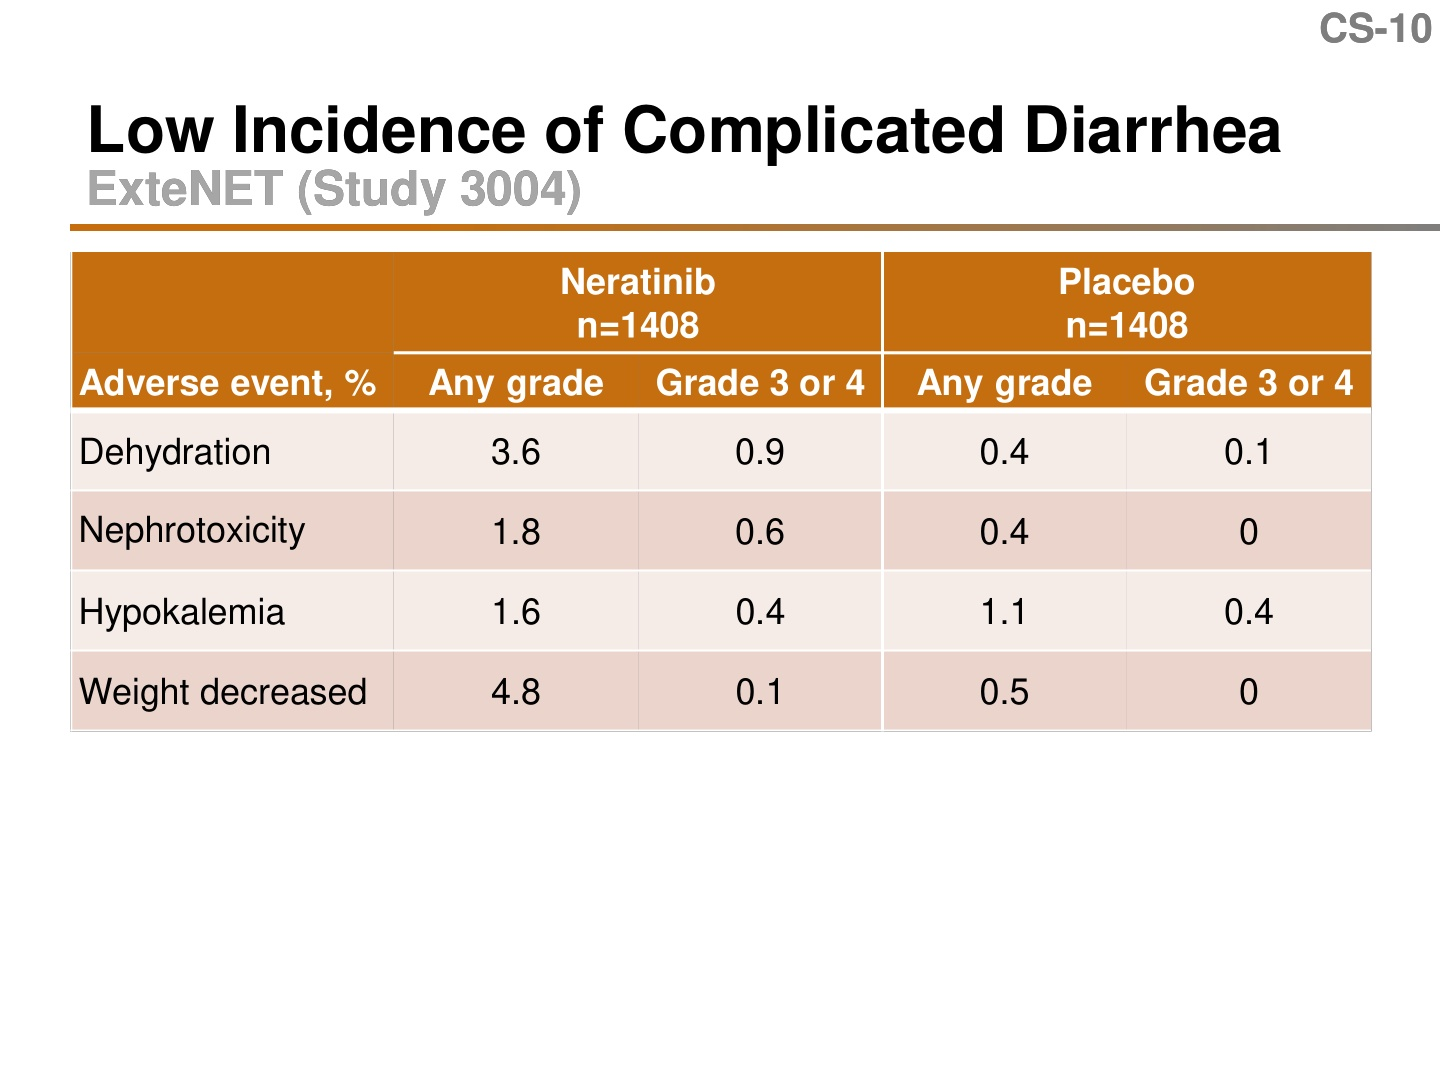merged_cells: (70, 251, 1373, 731)
